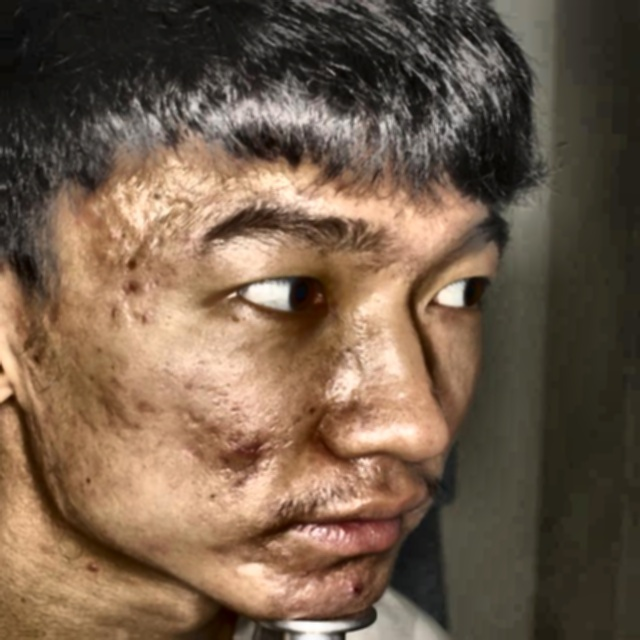comedone: (218, 439, 264, 477), (109, 273, 149, 300), (330, 572, 366, 602)
